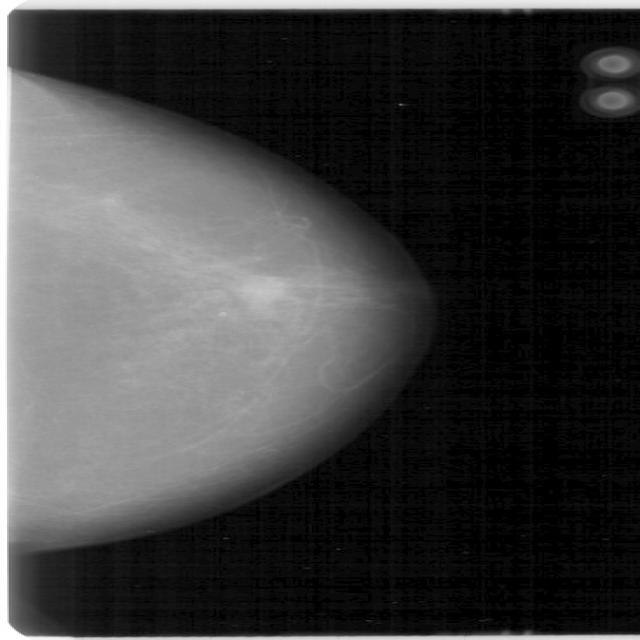tumour: (232, 273, 286, 304)
